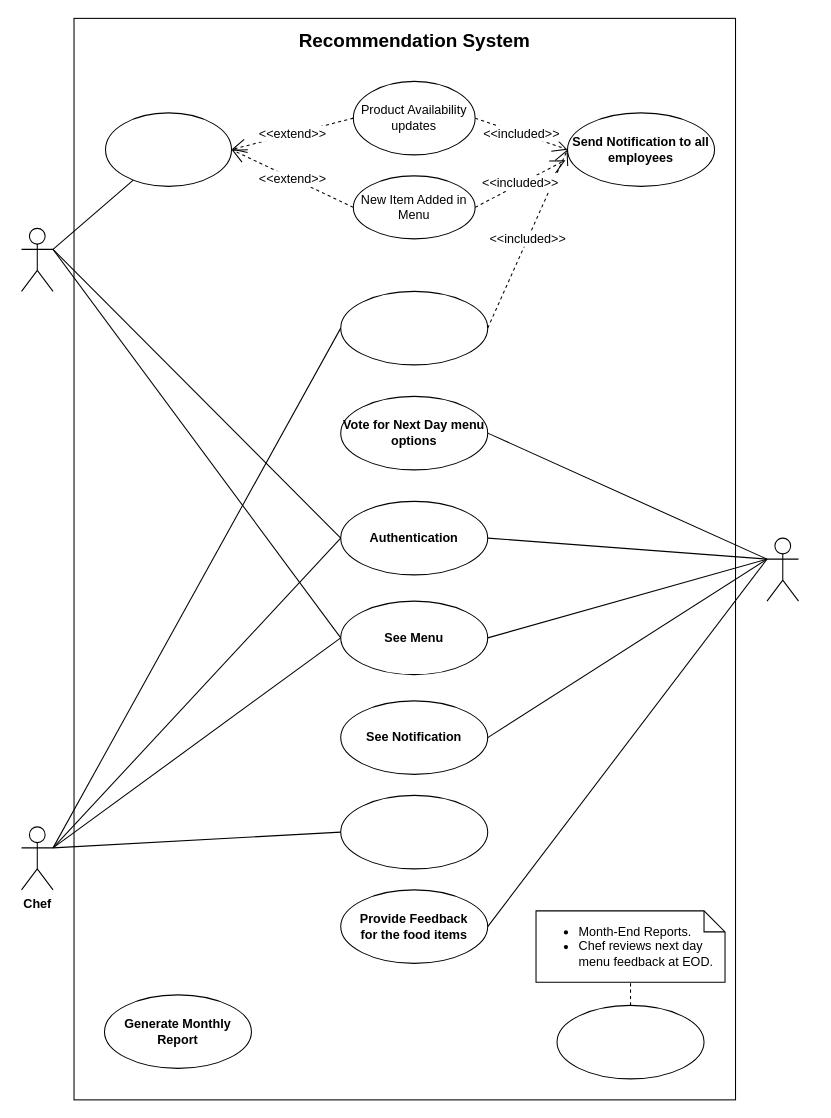
Some shapes in this 831 by 1118 pixel diagram are drawn without their labels. Here are the shapes that lost their labels. From the top down, the centre of each, then its label:
At pixel 168 149: "CRUD for Menu".
At pixel 36 259: "A dmin".
At pixel 414 327: "Provide Next Day menu options".
At pixel 782 569: "Employee".
At pixel 414 831: "See Monthly Report".
At pixel 630 1041: "Awareness of the local time".
